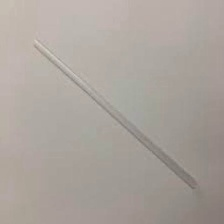drinking_straw: (26, 29, 205, 194)
